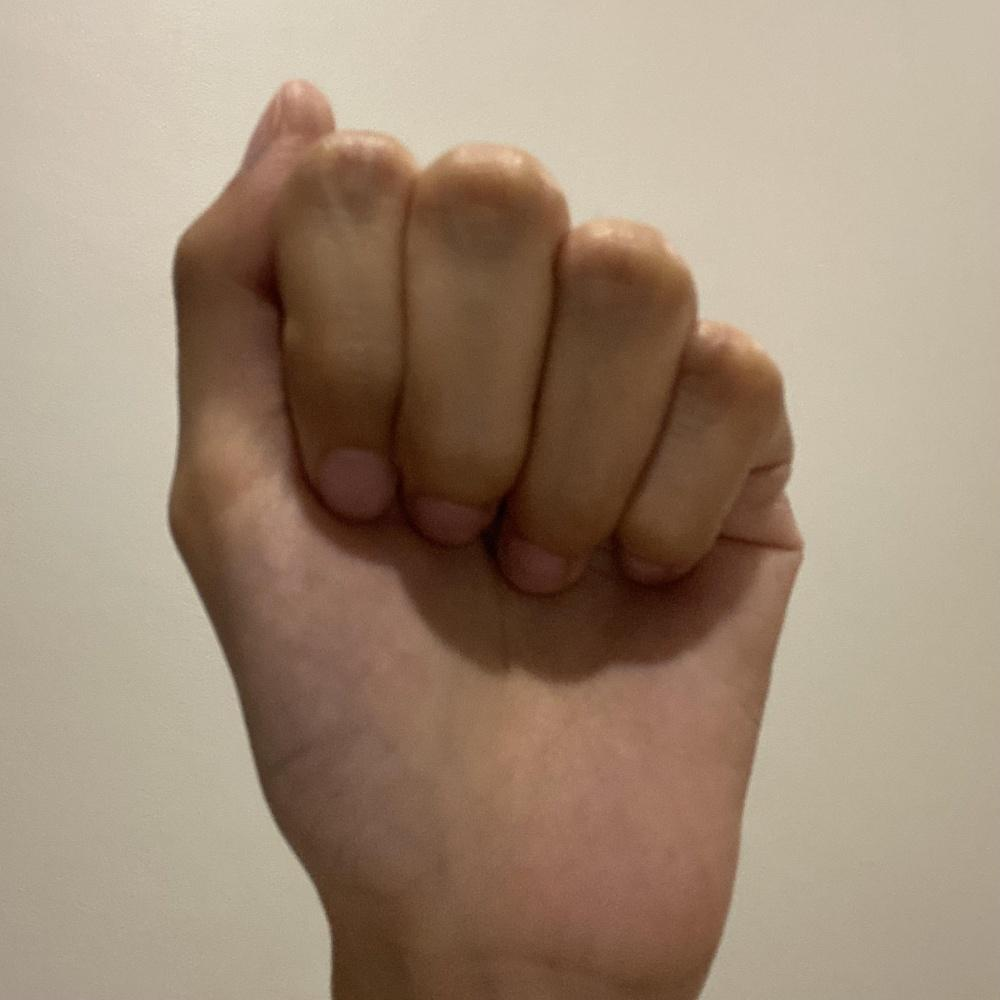a: (159, 71, 806, 989)
